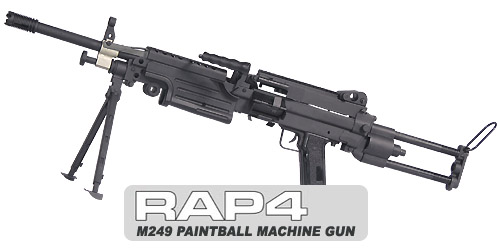rifle: (2, 9, 494, 210)
